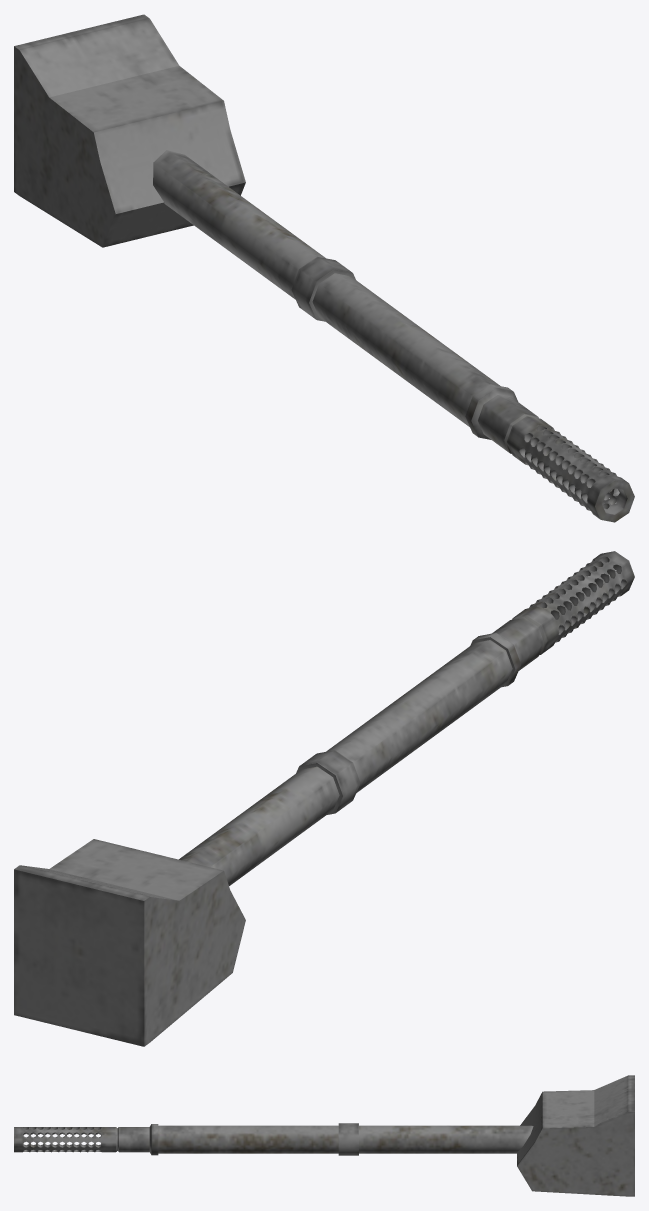
Rendered from gun.glb.
3 renders of one model, top to bottom at view 1: azimuth 30°, elevation 25°; view 2: azimuth 150°, elevation 25°; view 3: azimuth 270°, elevation 25°, orthographic. The views are drawn at different scales.
Parts seen in each view (by area): view 1: Stvol.001; view 2: Stvol.001; view 3: Stvol.001.
Boxes of the visible parts, <box> form: Stvol.001: <box>14,14,634,522</box>; Stvol.001: <box>14,551,634,1046</box>; Stvol.001: <box>14,1075,634,1196</box>.
Bounding box in the file's own units: 90.18 × 96.49 × 643.
Materials: 2 (2 with a texture image).
